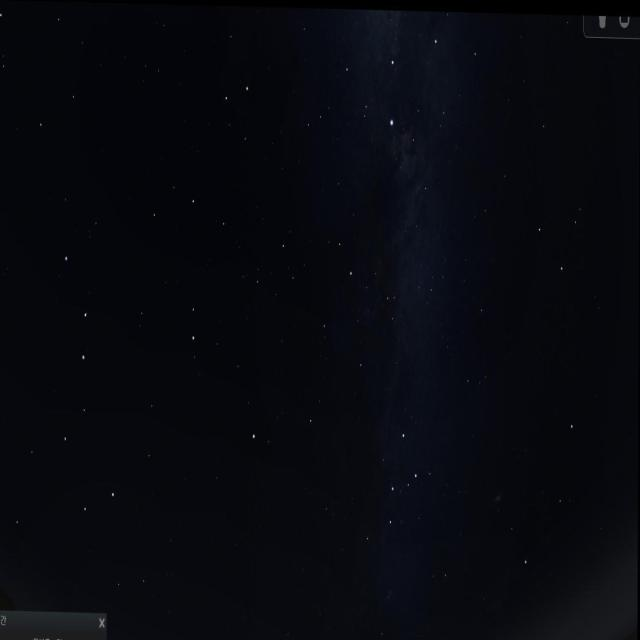cassiopeia: (351, 412, 432, 543)
cygnus: (346, 7, 445, 151)
ursa_major: (48, 247, 128, 523)
